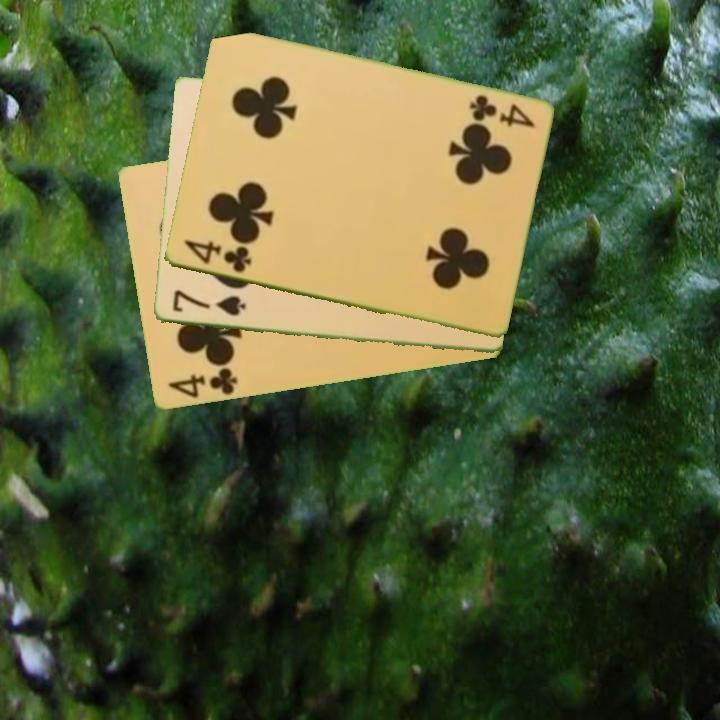4c: (180, 236, 254, 276), (164, 364, 240, 402), (465, 92, 538, 131)
7s: (169, 287, 248, 320)
